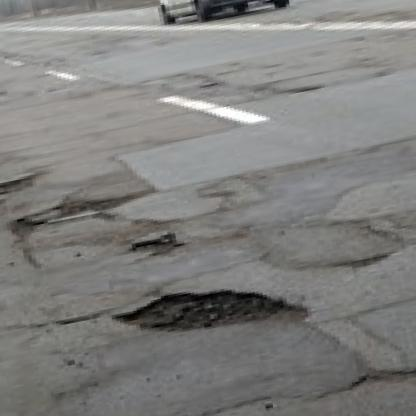pothole: (113, 269, 313, 355), (0, 181, 149, 243), (124, 229, 191, 264), (354, 357, 416, 393), (0, 170, 49, 198)
